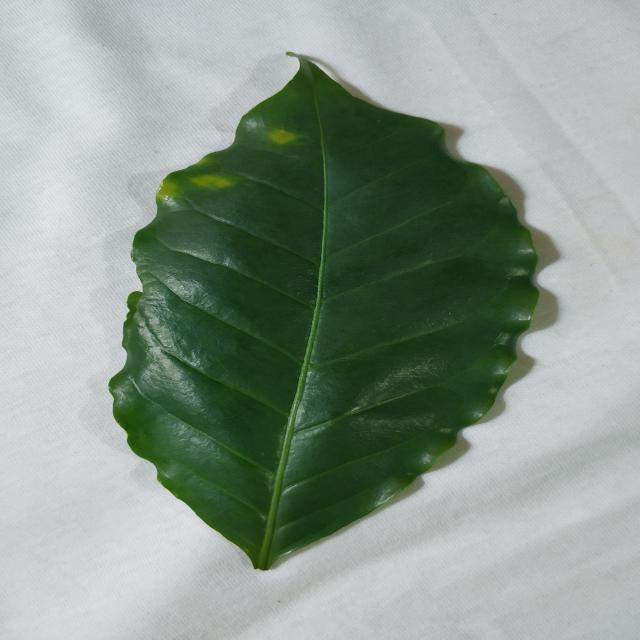Enfermedad-Roya: (106, 55, 543, 573)
